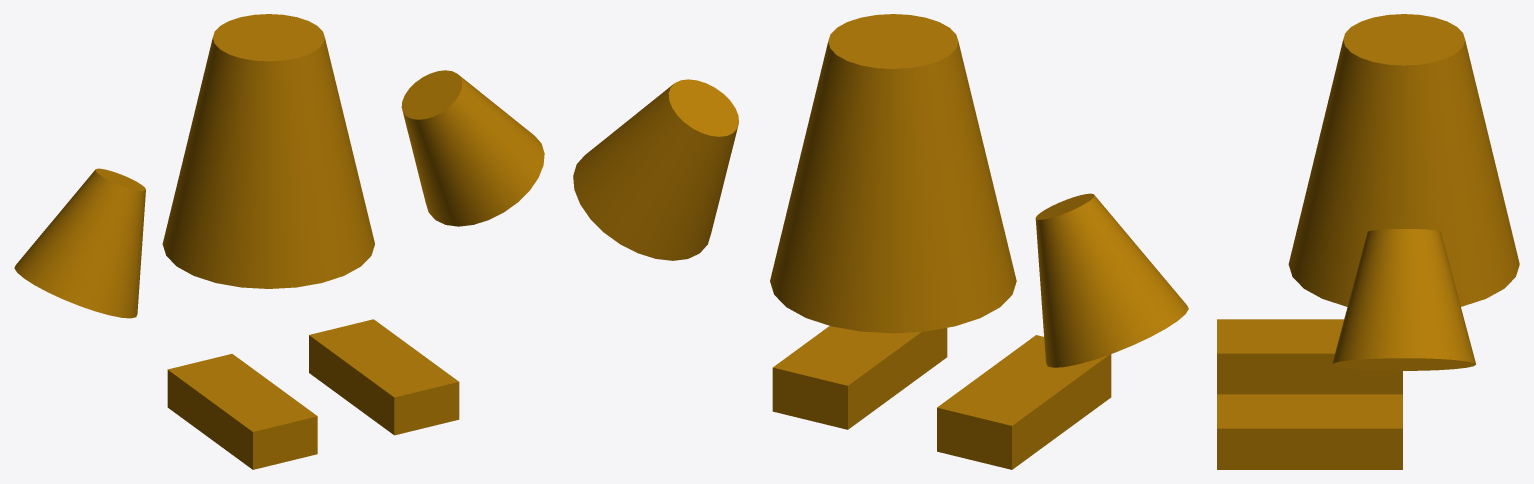
File: ms_player_yellow.FBX
3 renders of one model, left to right at view 1: azimuth 30°, elevation 25°; view 2: azimuth 150°, elevation 25°; view 3: azimuth 270°, elevation 25°, orthographic. The views are drawn at different scales.
Visible parts, largest first — view 1: Cone014, Cone013, Cone015, Box016, Box015; view 2: Cone014, Cone013, Cone015, Box016, Box015; view 3: Cone014, Cone013, Box015, Box016.
Part boxes in pixels (x1,y1,x2,y2): Cone014: (162, 14, 374, 288); Cone013: (401, 70, 544, 226); Cone015: (14, 168, 145, 318); Box016: (167, 354, 317, 469); Box015: (309, 319, 459, 435); Cone014: (770, 14, 1016, 333); Cone013: (573, 79, 738, 260); Cone015: (1035, 193, 1188, 367); Box016: (937, 335, 1111, 469); Box015: (772, 326, 947, 429); Cone014: (1288, 14, 1519, 306); Cone013: (1332, 229, 1475, 370); Box015: (1217, 394, 1402, 469); Box016: (1217, 319, 1402, 394).
Size of the model in its own units: 70.91 by 45.7 by 33.45.
